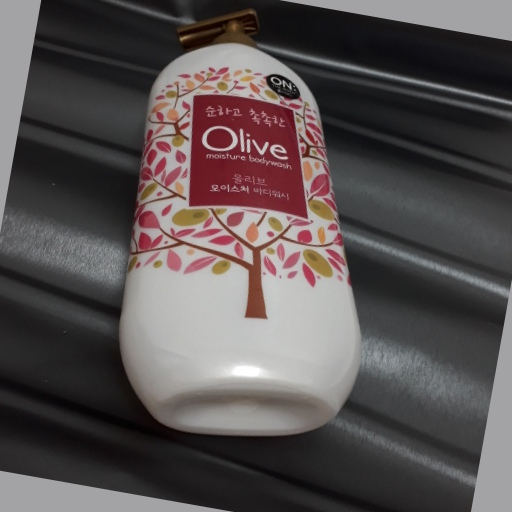Plastic_3: (122, 7, 364, 434)
